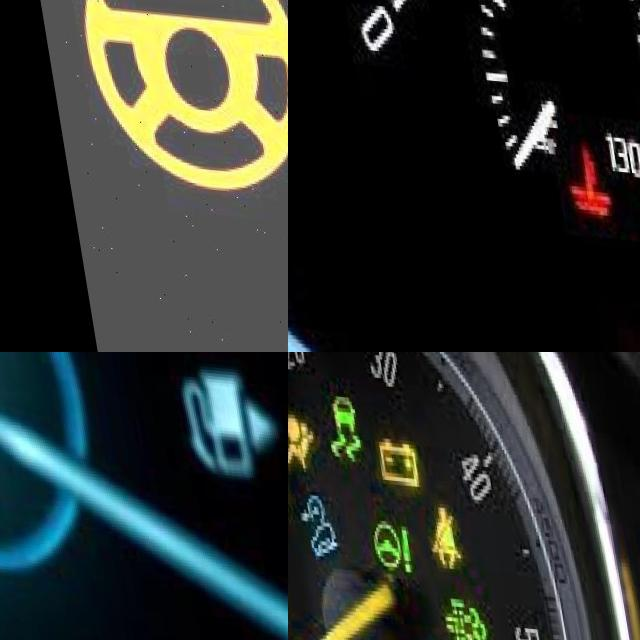Electronic Power Steering Warning: (57, 0, 288, 200)
High Engine Coolant Temperature: (545, 137, 603, 217)
Seat Belt: (414, 497, 457, 567)
